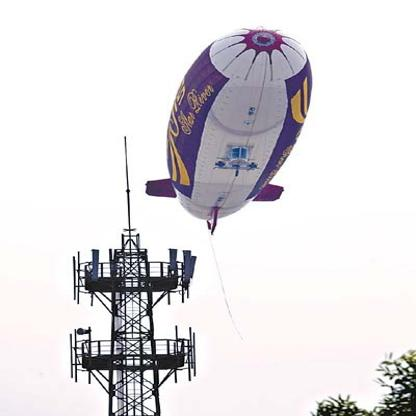Airship: (146, 23, 317, 237)
